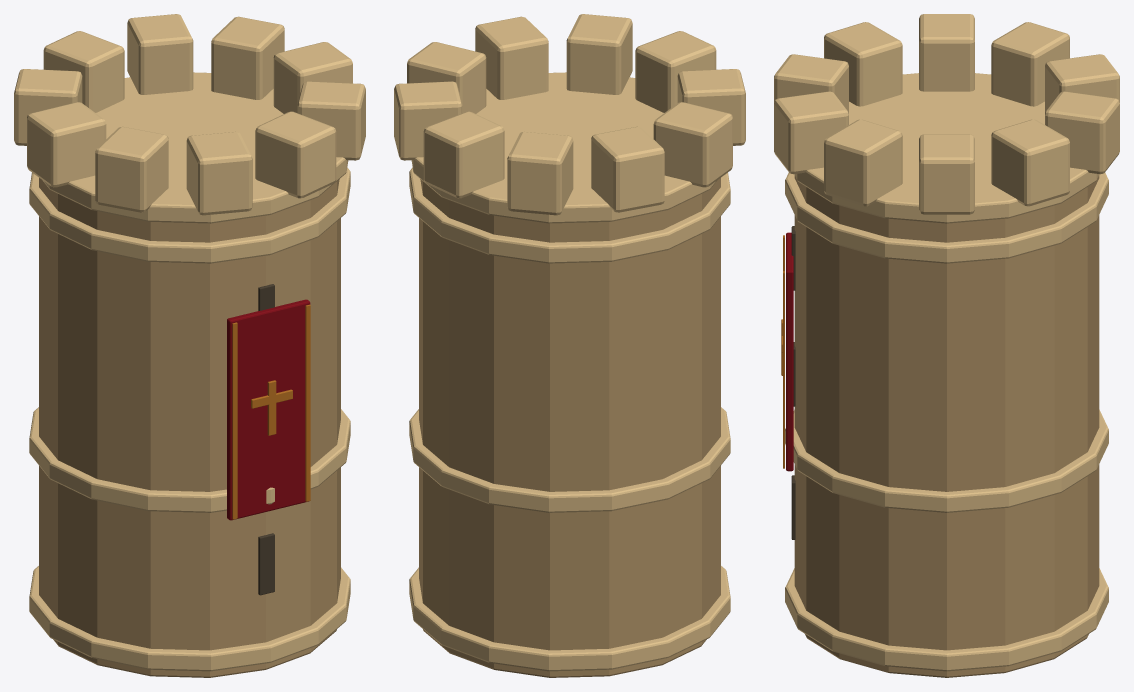
Rendered from courtyard_course_tower.glb.
The picture shows the model from 3 angles, left to right: view 1: azimuth 30°, elevation 25°; view 2: azimuth 150°, elevation 25°; view 3: azimuth 270°, elevation 25°; orthographic projection.
Visible parts, largest first — view 1: courtyard_course_tower; view 2: courtyard_course_tower; view 3: courtyard_course_tower.
Part boxes in pixels (bbox=[...]): courtyard_course_tower: bbox=[14, 14, 365, 677]; courtyard_course_tower: bbox=[394, 14, 745, 677]; courtyard_course_tower: bbox=[774, 14, 1119, 677].
Bounding box in the file's own units: 3.55 × 5.94 × 3.52.
